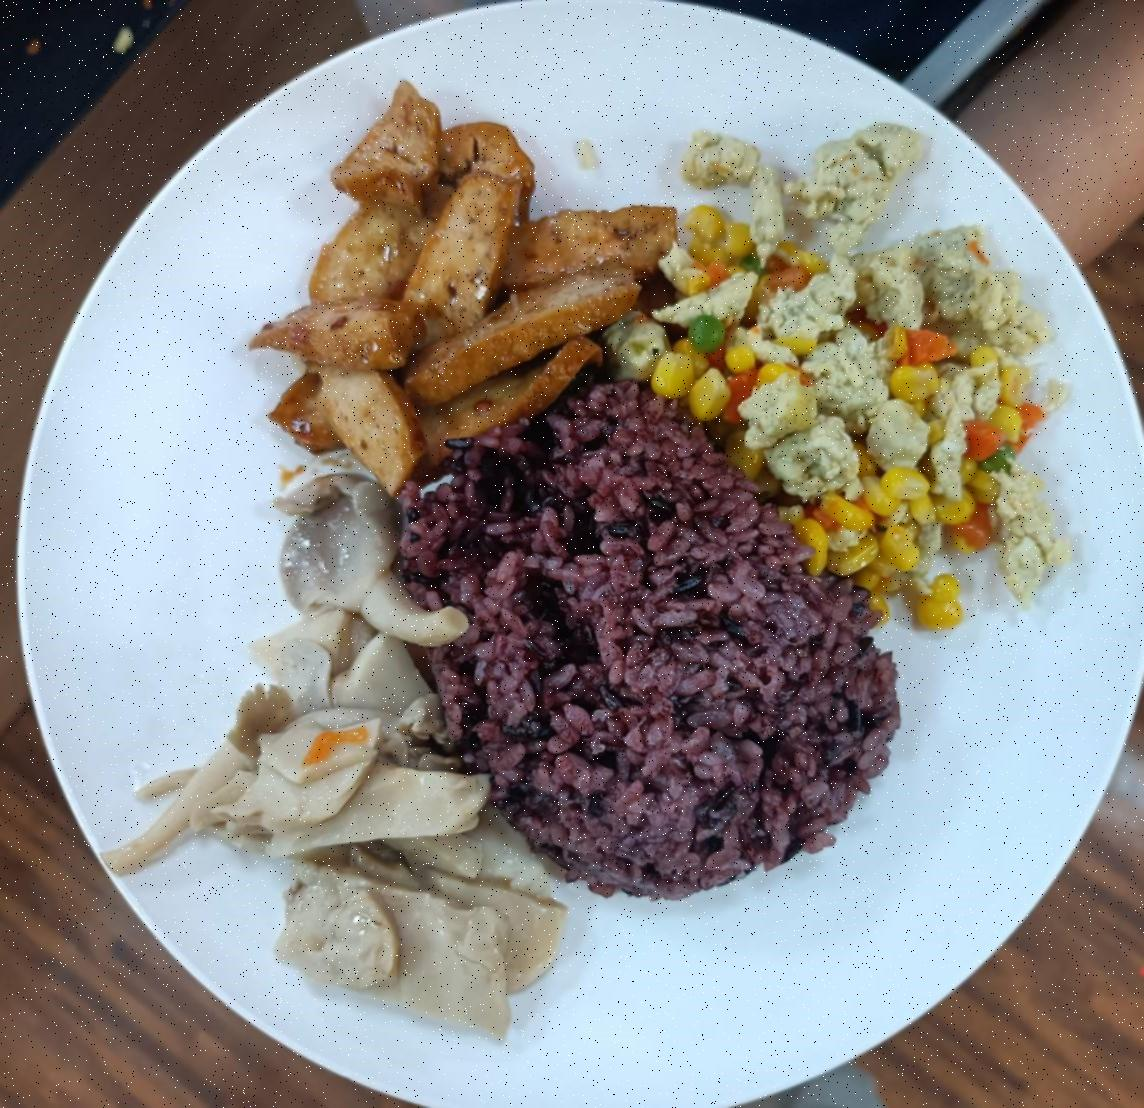plate: (20, 13, 1144, 1104)
purple rice: (434, 410, 873, 883)
side dish: (680, 141, 1093, 558), (228, 466, 502, 1007), (276, 110, 595, 436)
